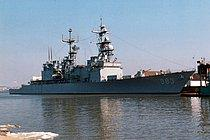MIL_Ship: (9, 18, 190, 97)
